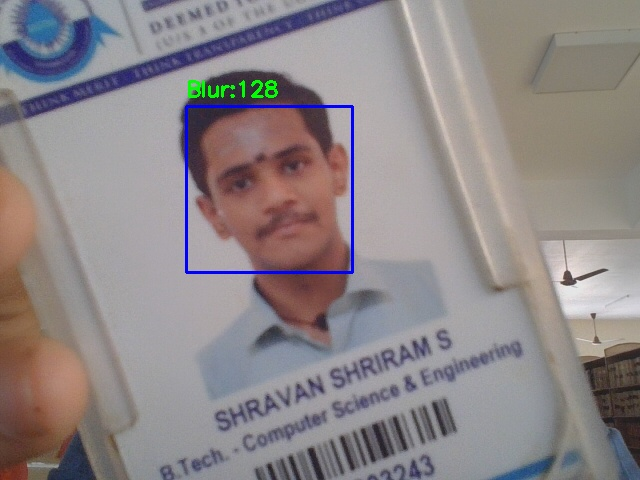fake: (186, 106, 352, 272)
